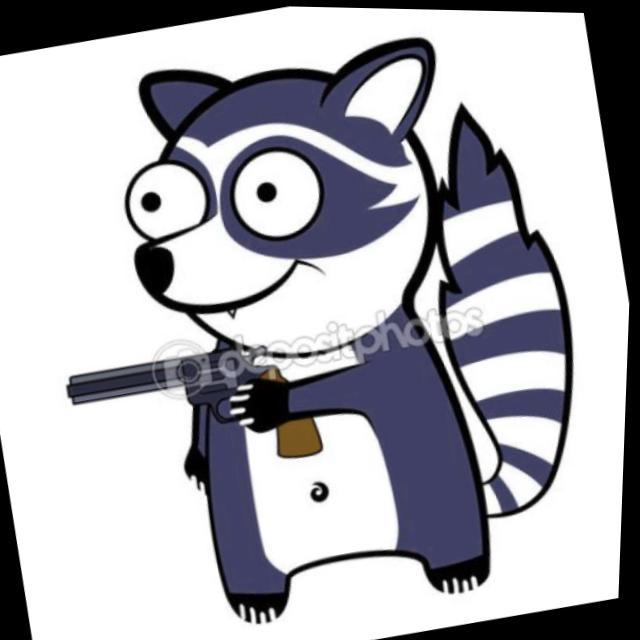weapon: (64, 323, 343, 504)
